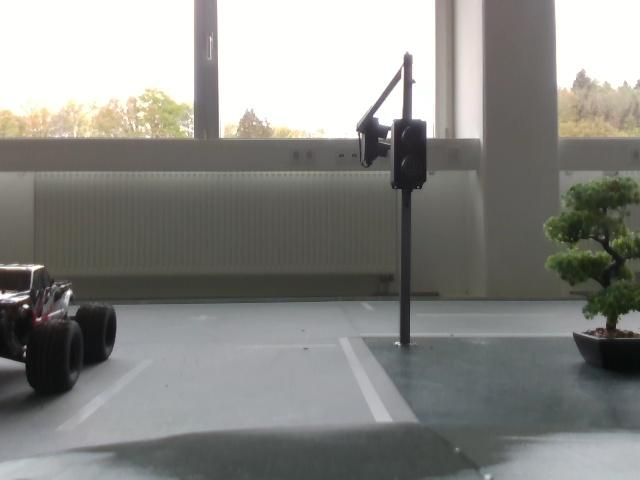car: (1, 264, 125, 394)
potted plant: (542, 176, 640, 375)
traffic light: (393, 124, 426, 181), (357, 122, 383, 168)
